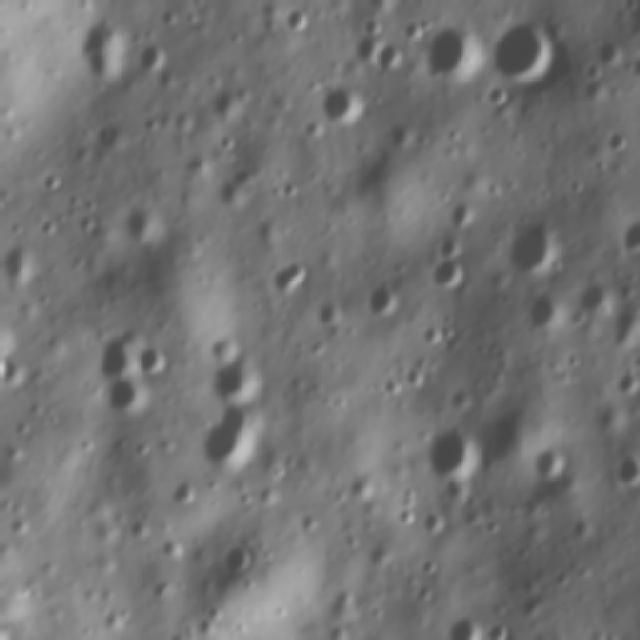crater: (493, 11, 558, 80), (419, 21, 486, 84), (506, 212, 560, 280), (202, 404, 263, 464), (116, 189, 176, 248), (208, 341, 263, 405), (94, 366, 152, 419), (424, 426, 478, 480), (206, 536, 265, 579), (263, 252, 309, 306), (0, 232, 43, 286), (528, 436, 574, 484), (320, 80, 366, 128), (528, 289, 569, 336), (357, 275, 397, 323), (420, 259, 474, 292), (132, 40, 171, 82), (165, 472, 201, 514), (374, 31, 411, 71), (609, 446, 640, 492), (440, 609, 486, 640), (137, 338, 169, 380), (278, 0, 317, 31), (617, 215, 640, 259), (600, 123, 634, 151), (484, 617, 516, 640), (635, 3, 640, 82)
